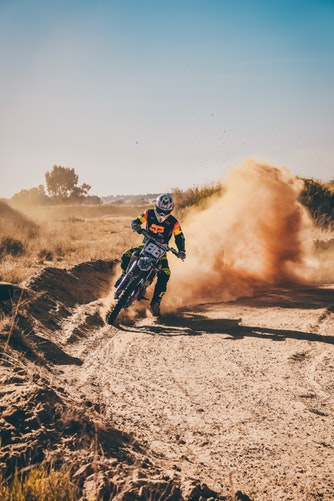helmet: (150, 191, 179, 220)
